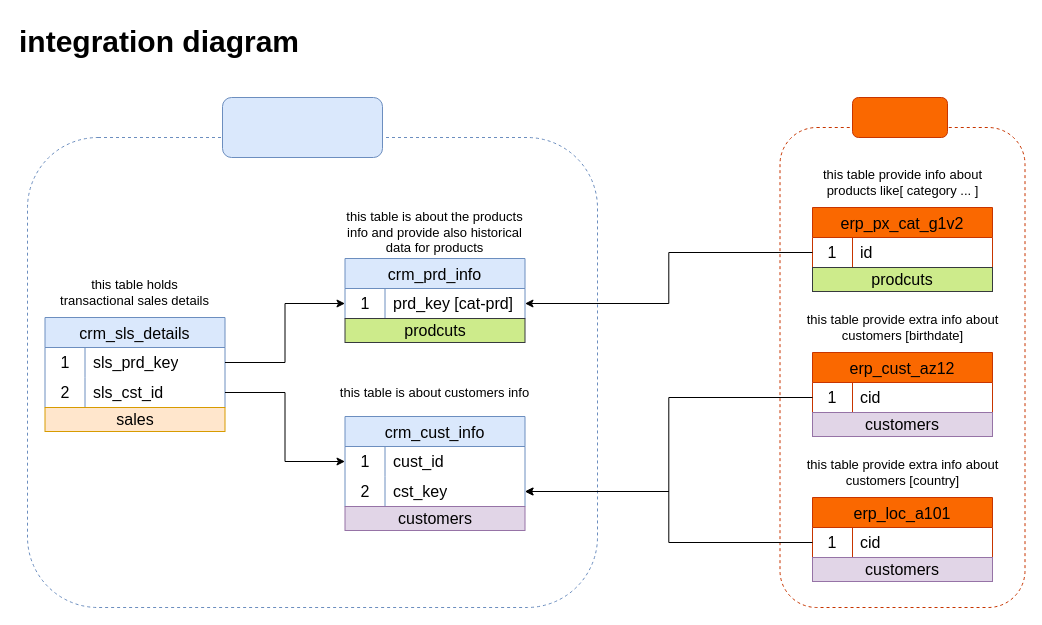
Some shapes in this 1042 by 625 pixel diagram are drawn without their labels. The centre of each missing label's shape, as x and y in pixels:
CRM: (x=302, y=127)
ERP: (x=900, y=117)
